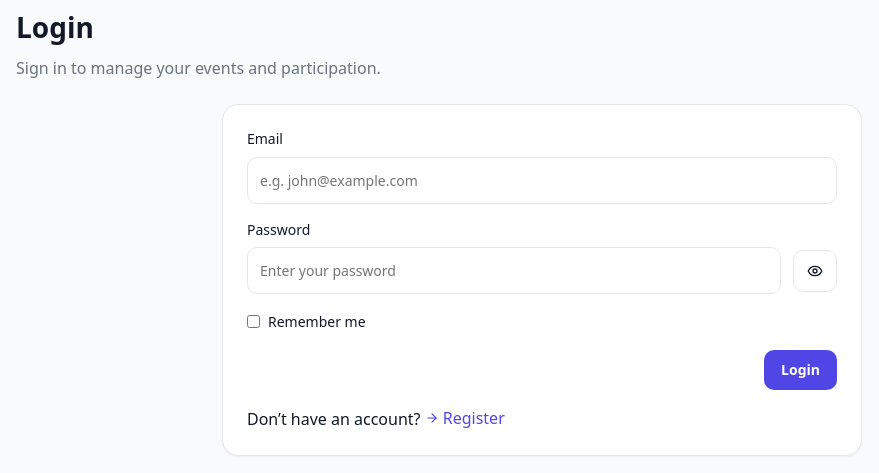
Test case: LoginPage › shows loading state while submitting
The width and height of the screenshot is (879, 473).
Type "test@test.com" into the field labelled "Email" at (542, 180), box [247,157,837,204]
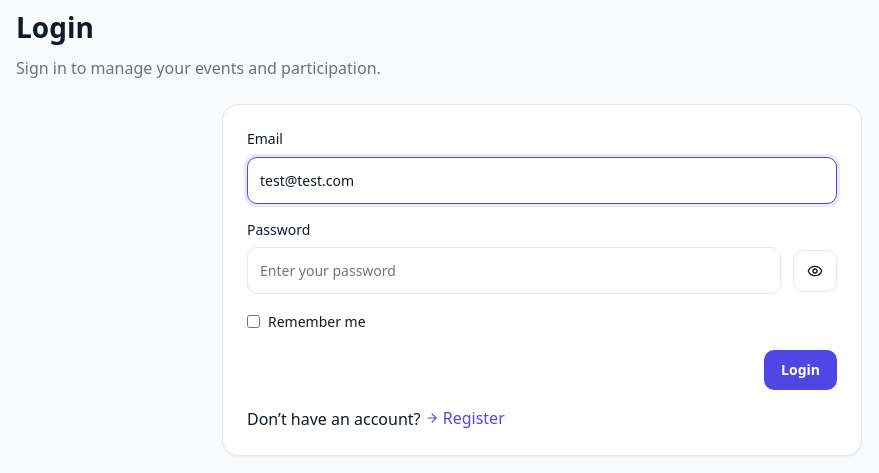
Type "Password123" into the password field labelled "Password" at (514, 271), box [247,247,781,294]
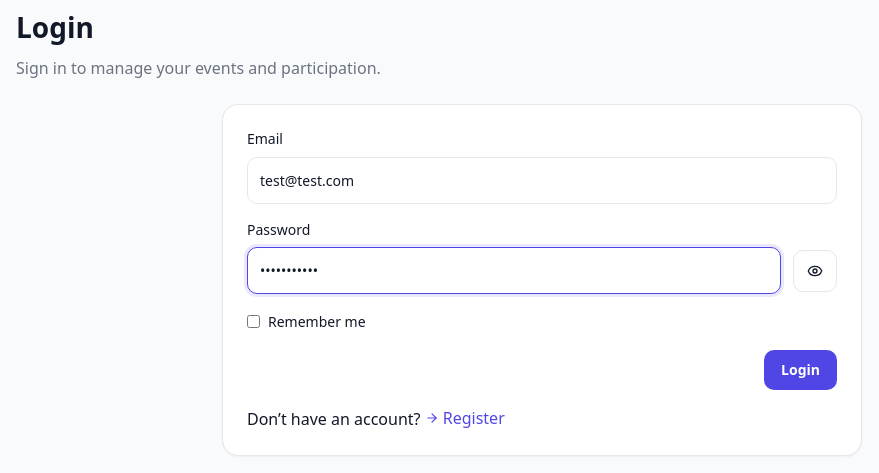
Click the button "Login" at (801, 370), box [764,350,837,390]
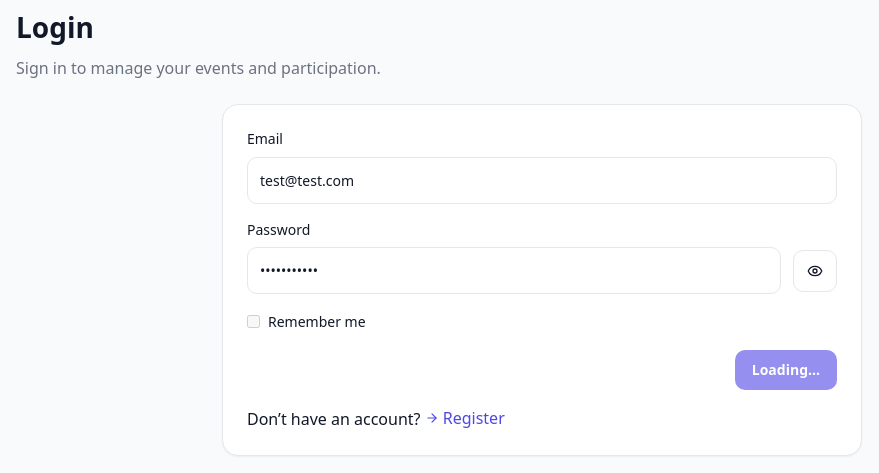
Check: the button "Loading..." is disabled, box [735,350,837,390]
